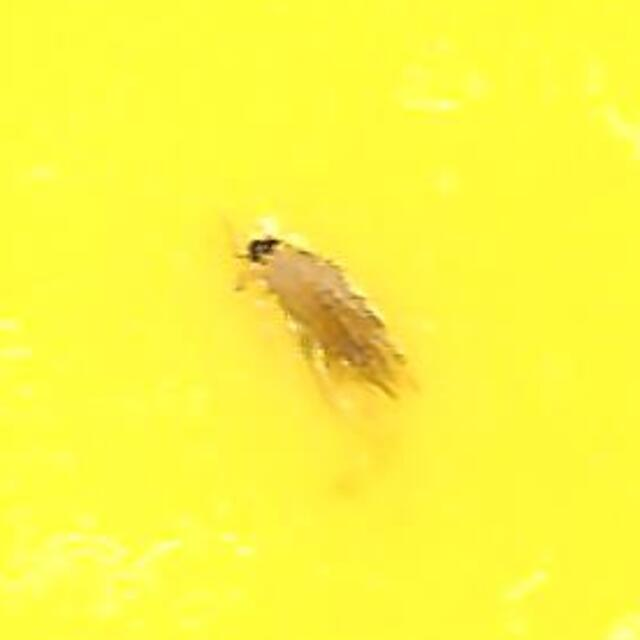Trichoptera: (232, 229, 408, 411)
